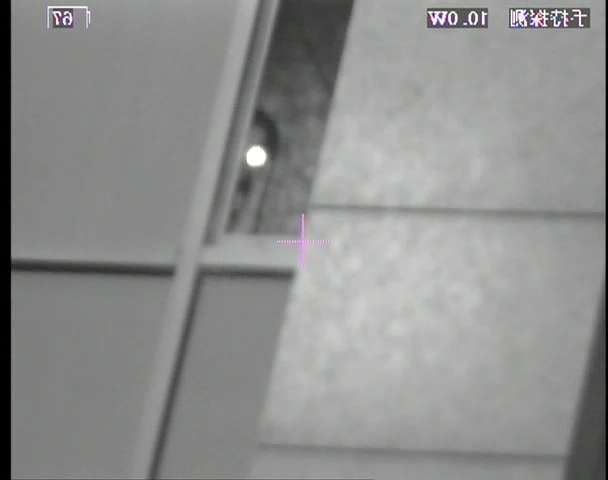my: (244, 144, 267, 168)
